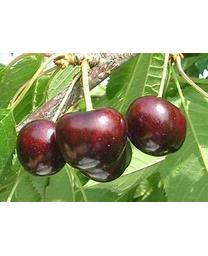cherry: (54, 106, 128, 169), (126, 96, 187, 157), (18, 119, 65, 176)
